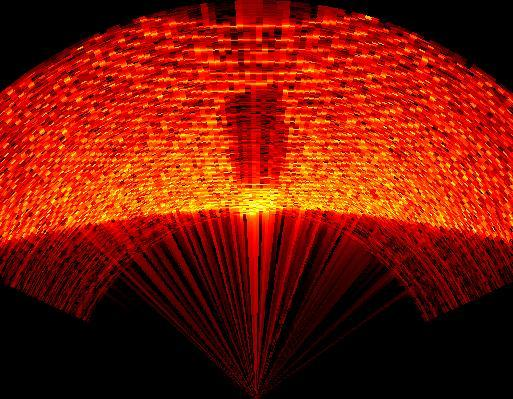box_crate: (218, 82, 296, 216)
